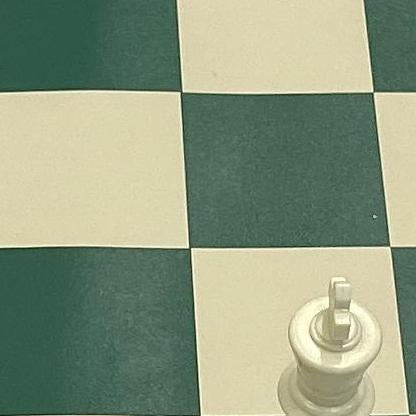white-king: (236, 272, 389, 416)
